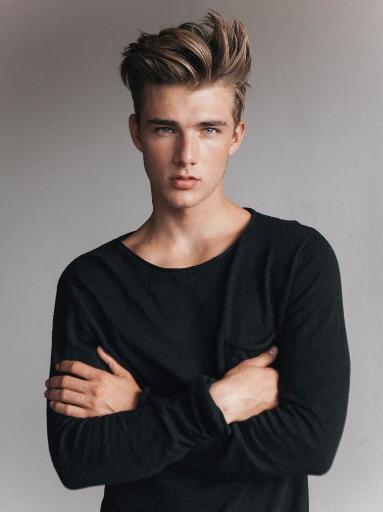left_eye: (200, 126, 225, 138)
left_lip_corner: (197, 176, 206, 187)
right_eye: (151, 126, 176, 137)
right_lip_corner: (168, 174, 176, 186)
